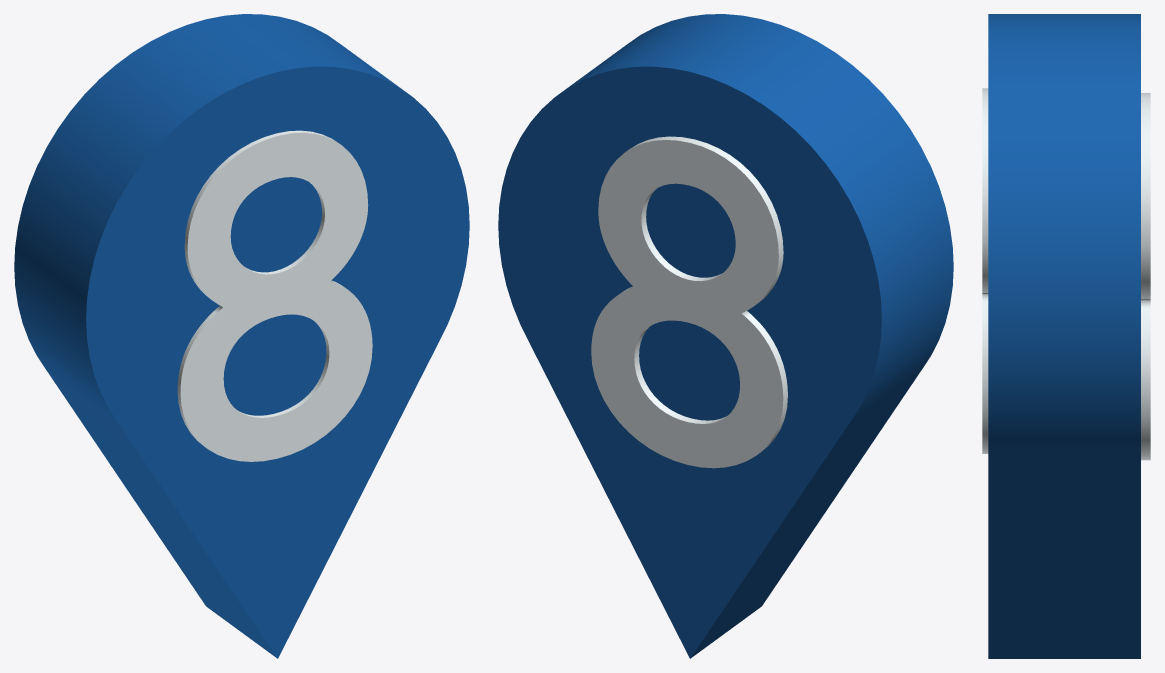
File: taikukan_point.glb
The picture shows the model from 3 angles, left to right: view 1: azimuth 30°, elevation 25°; view 2: azimuth 150°, elevation 25°; view 3: azimuth 270°, elevation 25°; orthographic projection. The views are drawn at different scales.
Visible parts, largest first — view 1: 円.007, テキスト.014; view 2: 円.007, テキスト.013; view 3: 円.007, テキスト.013, テキスト.014.
Boxes of the visible parts, box(x1,y1,x2,y2) form: 円.007: box(14, 14, 469, 658); テキスト.014: box(177, 130, 372, 461); 円.007: box(498, 14, 953, 658); テキスト.013: box(591, 136, 787, 468); 円.007: box(988, 14, 1140, 658); テキスト.013: box(1141, 93, 1150, 460); テキスト.014: box(982, 88, 988, 453).
Bounding box in the file's own units: 2 × 2.92 × 0.7172.
3 materials, 3 textured.
